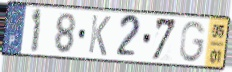1: (29, 7, 42, 55)
2: (114, 14, 144, 63)
7: (150, 17, 178, 62)
8: (54, 12, 78, 55)
G: (178, 20, 207, 64)
K: (87, 13, 112, 58)
